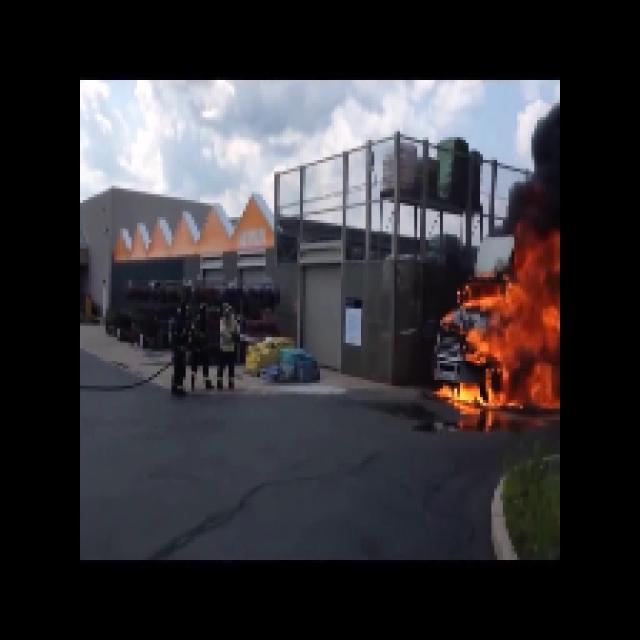Fire: (453, 242, 561, 416)
Smoke: (507, 102, 560, 230)
